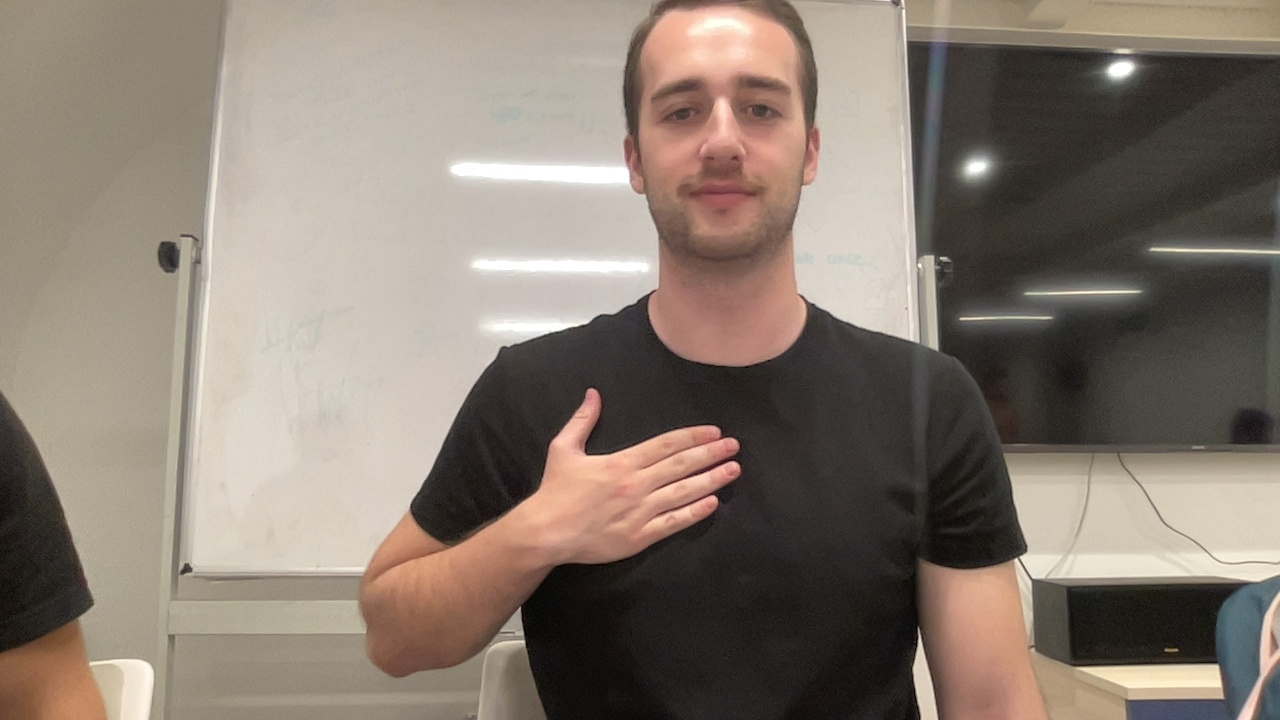Please: (353, 381, 744, 672)
